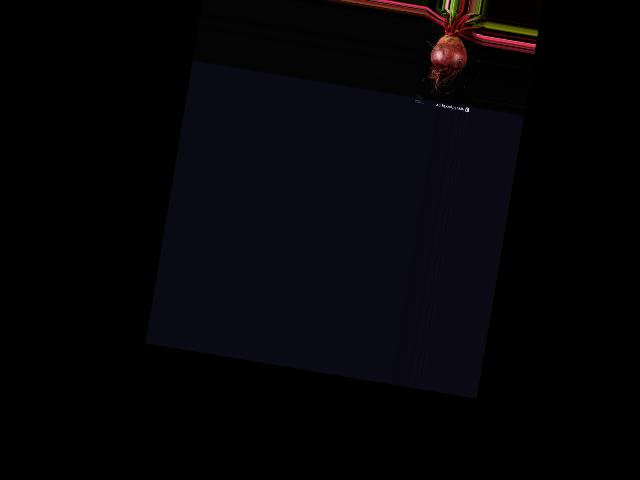beet: (423, 7, 487, 102)
